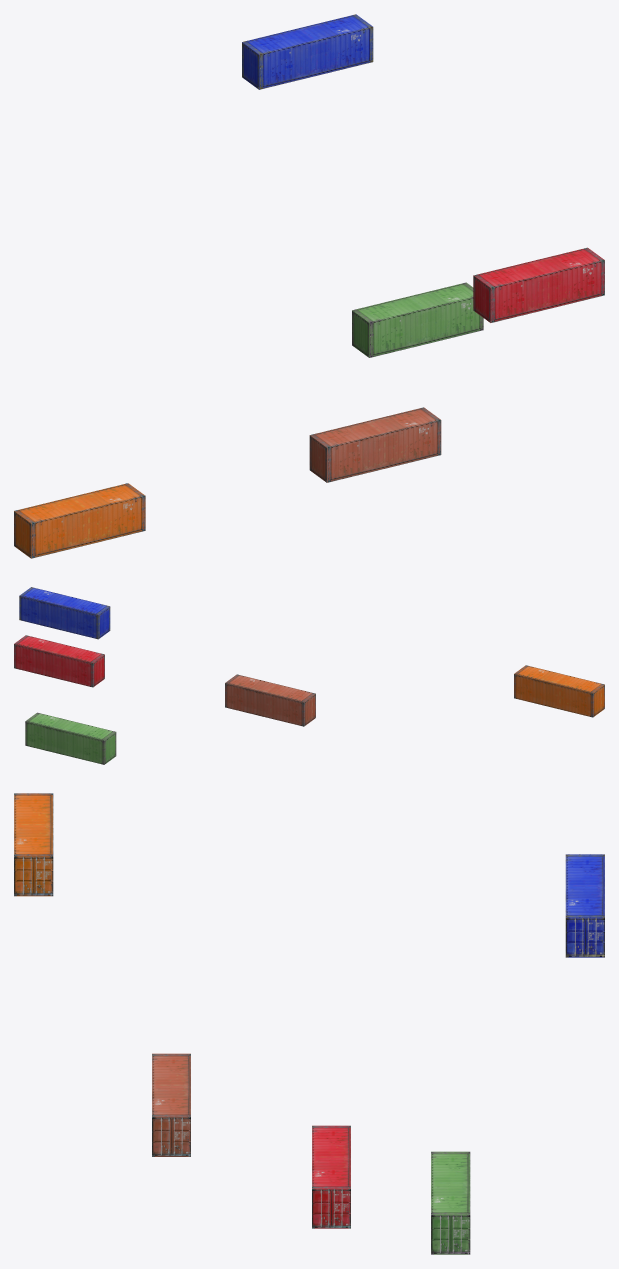
File: containers_or.glb
The picture shows the model from 3 angles, top to bottom: view 1: azimuth 30°, elevation 25°; view 2: azimuth 150°, elevation 25°; view 3: azimuth 270°, elevation 25°; orthographic projection. The views are drawn at different scales.
Parts seen in each view (by area): view 1: brown, blue, orange, red, green; view 2: blue, green, orange, brown, red; view 3: blue, green, orange, brown, red.
Boxes of the visible parts, x1,y1,x2,y2 form: brown: (309,407,441,482); blue: (242,14,373,89); orange: (14,483,145,558); red: (473,247,604,322); green: (352,282,483,357); blue: (19,587,110,639); green: (25,712,116,764); orange: (514,665,604,717); brown: (225,674,315,726); red: (14,635,104,687); blue: (565,854,604,957); green: (431,1151,470,1254); orange: (14,793,53,896); brown: (152,1053,190,1156); red: (312,1125,350,1228).
Size of the model in its own units: 73.43 by 27.1 by 46.98.
5 materials, 5 textured.
